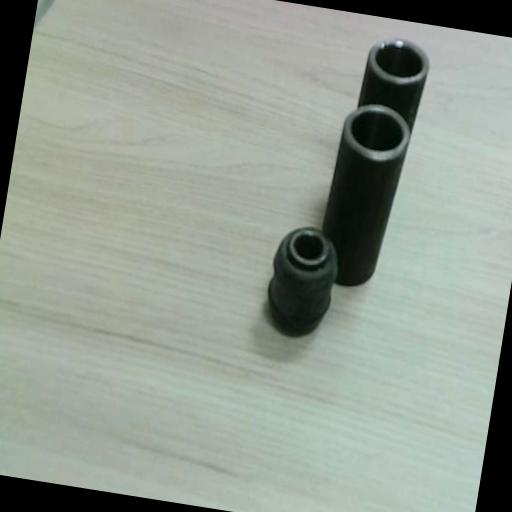peca: (268, 107, 408, 333), (358, 38, 428, 130)
